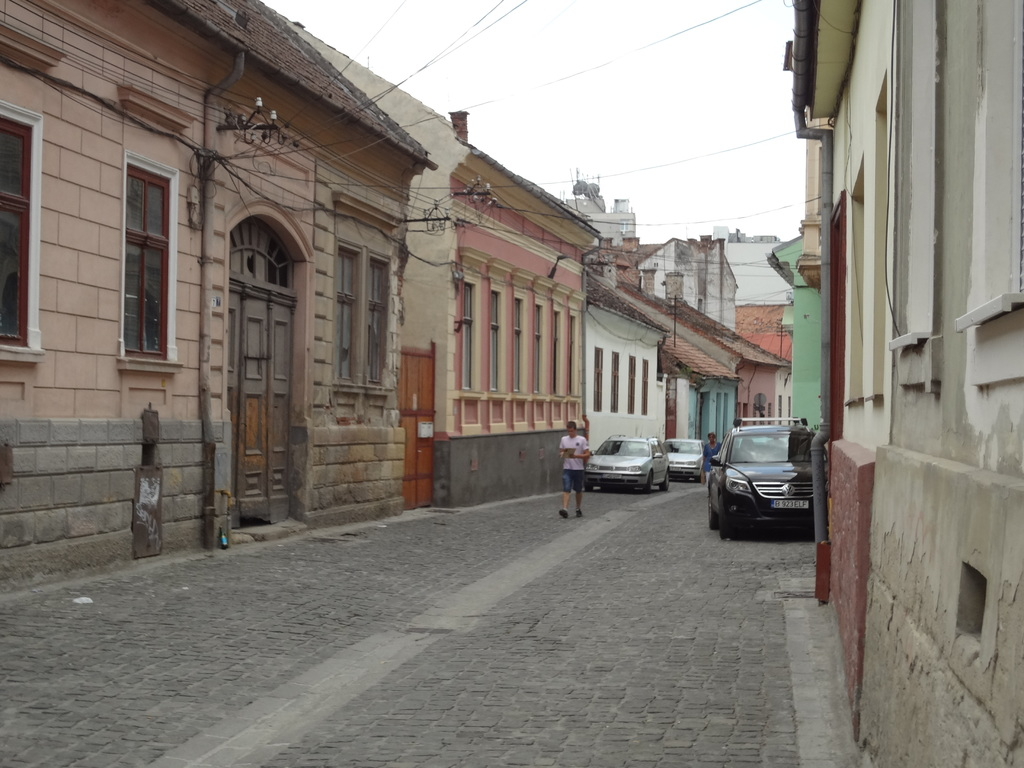Car: (711, 417, 817, 537), (586, 438, 666, 492), (663, 438, 702, 476)
